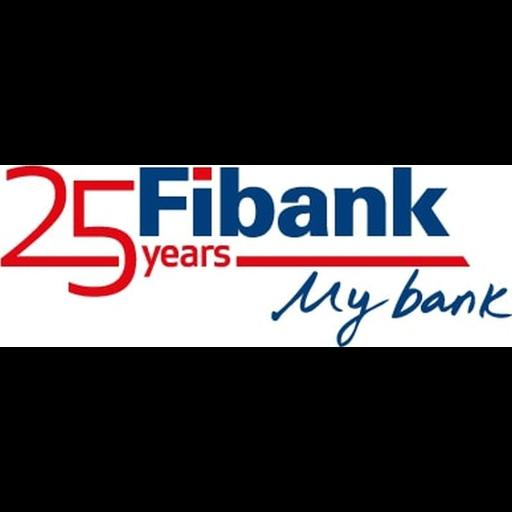First Investment Bank: (0, 165, 512, 347)
